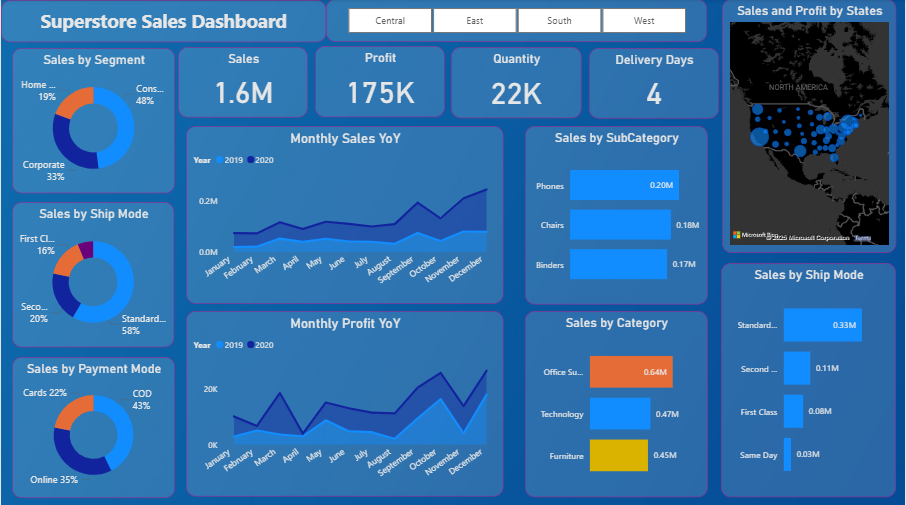

The dashboard page shown, as its layout file describes it:
{"tool":"powerbi","page":{"name":"Dashboard","canvas":[1280,720],"ordinal":0},"visuals":[{"type":"clusteredBarChart","title":"Sales by Category","fields":{"Category":["SuperStore_Sales_Dataset.Category"],"Y":["Sum(SuperStore_Sales_Dataset.Sales)"]},"box":[742.9,442.9,258.6,264.3],"z":0},{"type":"clusteredBarChart","title":"Sales by SubCategory","fields":{"Y":["Sum(SuperStore_Sales_Dataset.Sales)"],"Category":["SuperStore_Sales_Dataset.Sub-Category"]},"box":[742.9,180,258.6,252.9],"z":1000},{"type":"clusteredBarChart","title":"Sales by Ship Mode","fields":{"Y":["Sum(SuperStore_Sales_Dataset.Sales)"],"Category":["SuperStore_Sales_Dataset.Ship Mode"]},"box":[1021.1,374.4,247.8,332.2],"z":2000},{"type":"stackedAreaChart","title":"Monthly Sales YoY","fields":{"Category":["SuperStore_Sales_Dataset.Order Date.Variation.Date Hierarchy.Month","SuperStore_Sales_Dataset.Order Date.Variation.Date Hierarchy.Day"],"Y":["Sum(SuperStore_Sales_Dataset.Sales)"],"Series":["SuperStore_Sales_Dataset.Order Date.Variation.Date Hierarchy.Year"]},"box":[262.2,180,450,252.2],"z":3000},{"type":"stackedAreaChart","title":"Monthly Profit YoY","fields":{"Category":["SuperStore_Sales_Dataset.Order Date.Variation.Date Hierarchy.Month","SuperStore_Sales_Dataset.Order Date.Variation.Date Hierarchy.Day"],"Series":["SuperStore_Sales_Dataset.Order Date.Variation.Date Hierarchy.Year"],"Y":["Sum(SuperStore_Sales_Dataset.Profit)"]},"box":[262.2,442.2,450,263.3],"z":4000},{"type":"map","title":"Sales and Profit by States","fields":{"Category":["SuperStore_Sales_Dataset.State"],"Size":["Sum(SuperStore_Sales_Dataset.Sales)"]},"box":[1021.4,0,247.1,360],"z":5000},{"type":"donutChart","title":"Sales by Segment","fields":{"Category":["SuperStore_Sales_Dataset.Segment"],"Y":["Sum(SuperStore_Sales_Dataset.Sales)"]},"box":[15.6,68.9,231.1,205.6],"z":6000},{"type":"slicer","fields":{"Values":["SuperStore_Sales_Dataset.Region"]},"box":[461.2,0,540,61.2],"z":7000},{"type":"textbox","box":[0,1.2,461.2,60],"z":8000},{"type":"card","title":"Sales","fields":{"Values":["Sum(SuperStore_Sales_Dataset.Sales)"]},"box":[250.9,67.7,184.3,100],"z":9000},{"type":"card","title":"Profit","fields":{"Values":["Sum(SuperStore_Sales_Dataset.Profit)"]},"box":[444.8,66.7,184,101],"z":10000},{"type":"card","title":"Quantity","fields":{"Values":["Sum(SuperStore_Sales_Dataset.Quantity)"]},"box":[638.4,68.7,185,101],"z":11000},{"type":"card","title":"Delivery Days","fields":{"Values":["Avg(SuperStore_Sales_Dataset.AvgDelivery)"]},"box":[833,69.7,184,100],"z":12000},{"type":"donutChart","title":"Sales by Ship Mode","fields":{"Y":["Sum(SuperStore_Sales_Dataset.Sales)"],"Category":["SuperStore_Sales_Dataset.Ship Mode"]},"box":[15.6,287.8,230,205.6],"z":13000},{"type":"donutChart","title":"Sales by Payment Mode","fields":{"Y":["Sum(SuperStore_Sales_Dataset.Sales)"],"Category":["SuperStore_Sales_Dataset.Payment Mode"]},"box":[15.6,507.8,231.1,200],"z":14000}]}

Visuals, with their boxes in screenshot pixels (x1, y1, x2, y2), scaled from the page's 1280x720 canvas onto the 906x505 screenshot:
"Sales by Category" clusteredBarChart: detection(526, 311, 709, 496)
"Sales by SubCategory" clusteredBarChart: detection(526, 126, 709, 304)
"Sales by Ship Mode" clusteredBarChart: detection(723, 263, 898, 496)
"Monthly Sales YoY" stackedAreaChart: detection(186, 126, 504, 303)
"Monthly Profit YoY" stackedAreaChart: detection(186, 310, 504, 495)
"Sales and Profit by States" map: detection(723, 0, 898, 252)
"Sales by Segment" donutChart: detection(11, 48, 175, 193)
slicer - SuperStore_Sales_Dataset.Region: detection(326, 0, 709, 43)
textbox: detection(0, 1, 326, 43)
"Sales" card: detection(178, 47, 308, 118)
"Profit" card: detection(315, 47, 445, 118)
"Quantity" card: detection(452, 48, 583, 119)
"Delivery Days" card: detection(590, 49, 720, 119)
"Sales by Ship Mode" donutChart: detection(11, 202, 174, 346)
"Sales by Payment Mode" donutChart: detection(11, 356, 175, 496)
